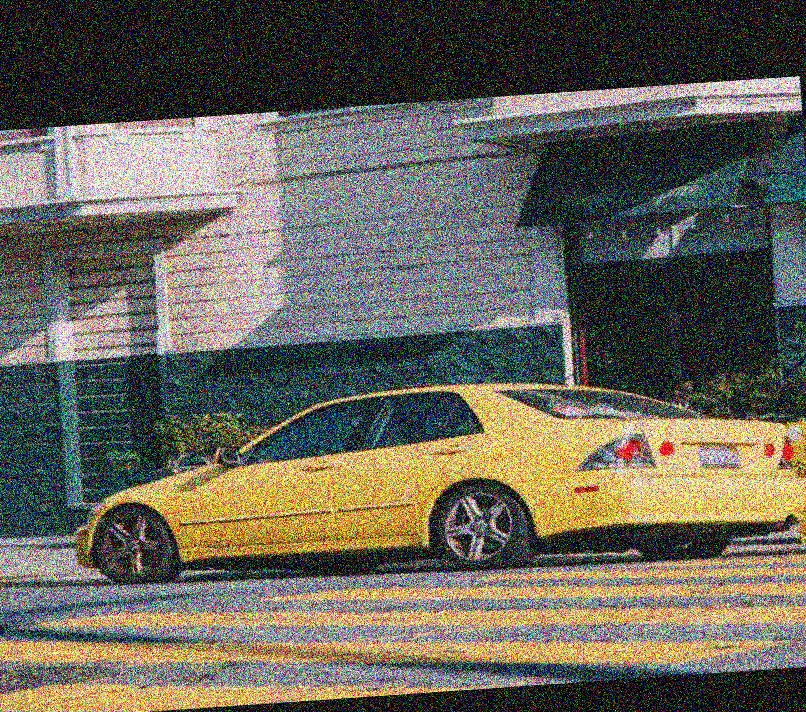car: (44, 336, 806, 615)
